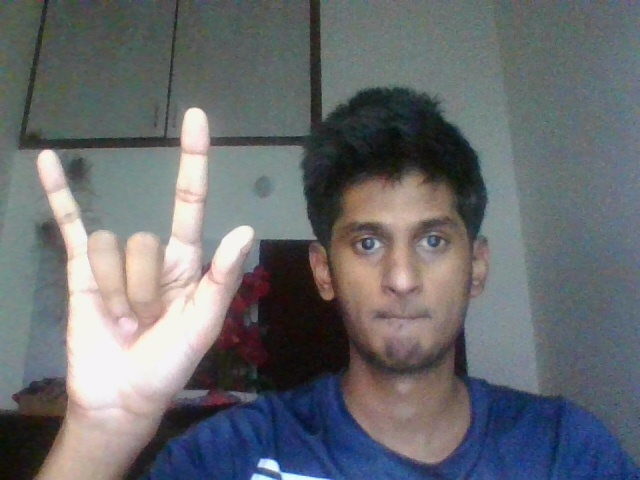I Love You: (17, 92, 279, 429)
